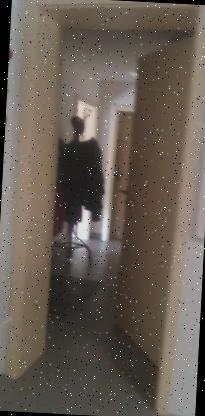door: (2, 0, 205, 413)
